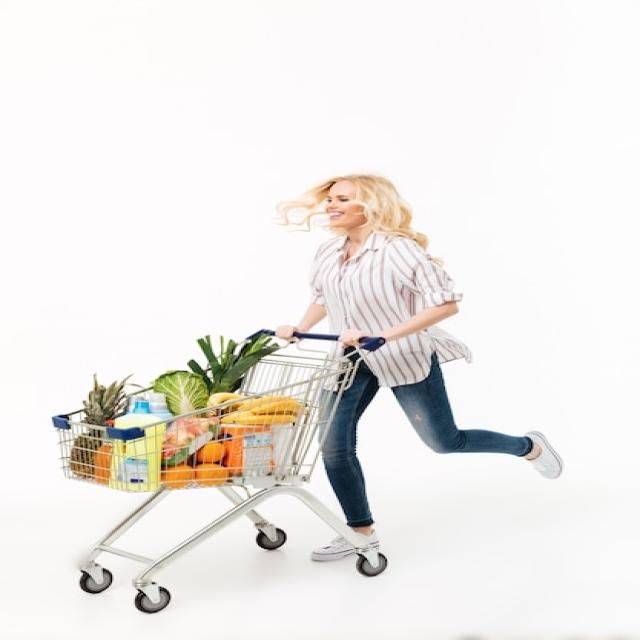Person: (275, 175, 562, 562)
